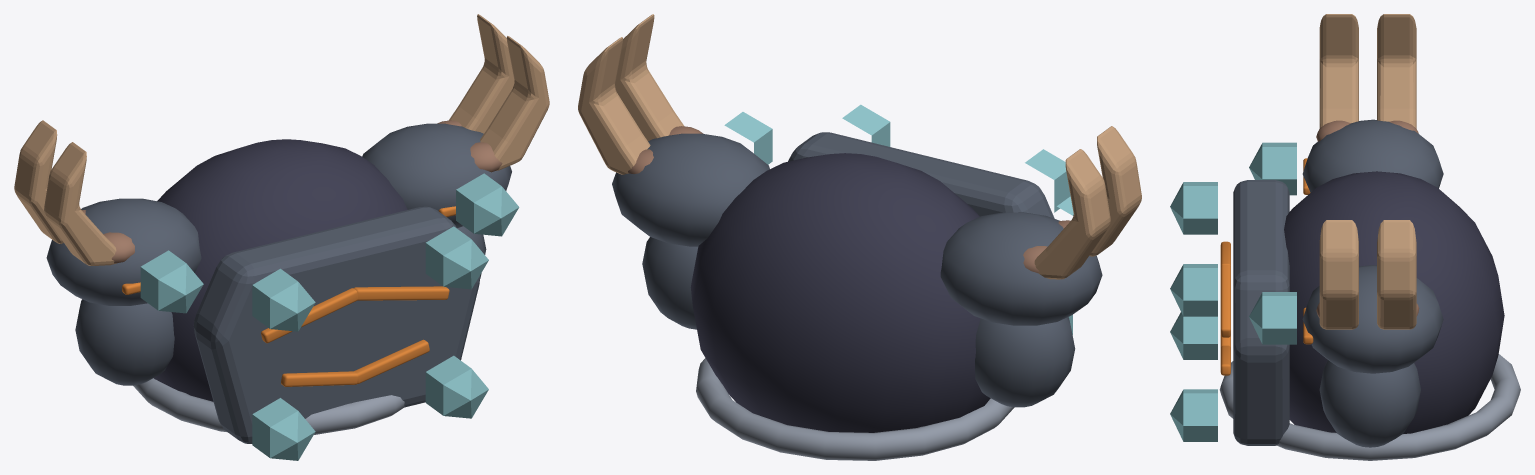
The model's file is magmamail.glb.
3 renders of one model, left to right at view 1: azimuth 30°, elevation 25°; view 2: azimuth 150°, elevation 25°; view 3: azimuth 270°, elevation 25°, orthographic. The views are drawn at different scales.
Parts seen in each view (by area): view 1: _magma_iron_back, _magma_crystal_rivet, object 4, object 3, _magma_ember_inlay; view 2: _magma_iron_back, object 4, object 3, _magma_crystal_rivet; view 3: _magma_iron_back, _magma_crystal_rivet, object 3, object 4, _magma_ember_inlay.
Part boxes in pixels (box(x1,y1,x2,y2)): _magma_iron_back: box(46, 123, 511, 443); _magma_crystal_rivet: box(140, 173, 519, 460); object 4: box(437, 14, 549, 172); object 3: box(14, 120, 134, 265); _magma_ember_inlay: box(122, 206, 455, 386); _magma_iron_back: box(612, 132, 1102, 460); object 4: box(578, 14, 703, 174); object 3: box(1023, 126, 1141, 279); _magma_crystal_rivet: box(724, 104, 1073, 334); _magma_iron_back: box(1219, 119, 1520, 460); _magma_crystal_rivet: box(1170, 142, 1296, 441); object 3: box(1316, 14, 1418, 141); object 4: box(1316, 220, 1419, 329); _magma_ember_inlay: box(1220, 158, 1313, 375).
Bounding box in the file's own units: 0.9721 × 0.6417 × 0.622.
